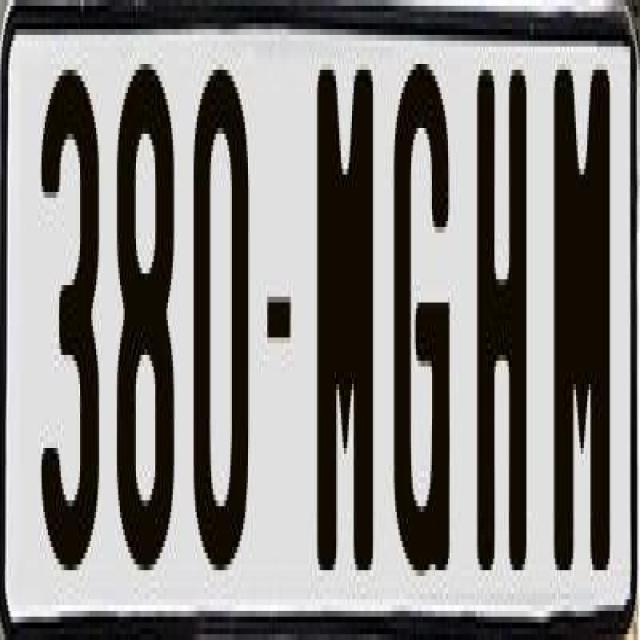0: (194, 70, 258, 600)
3: (37, 58, 104, 559)
8: (112, 58, 170, 576)
G: (389, 63, 453, 600)
H: (472, 52, 525, 570)
M: (315, 70, 379, 570), (549, 58, 608, 576)
